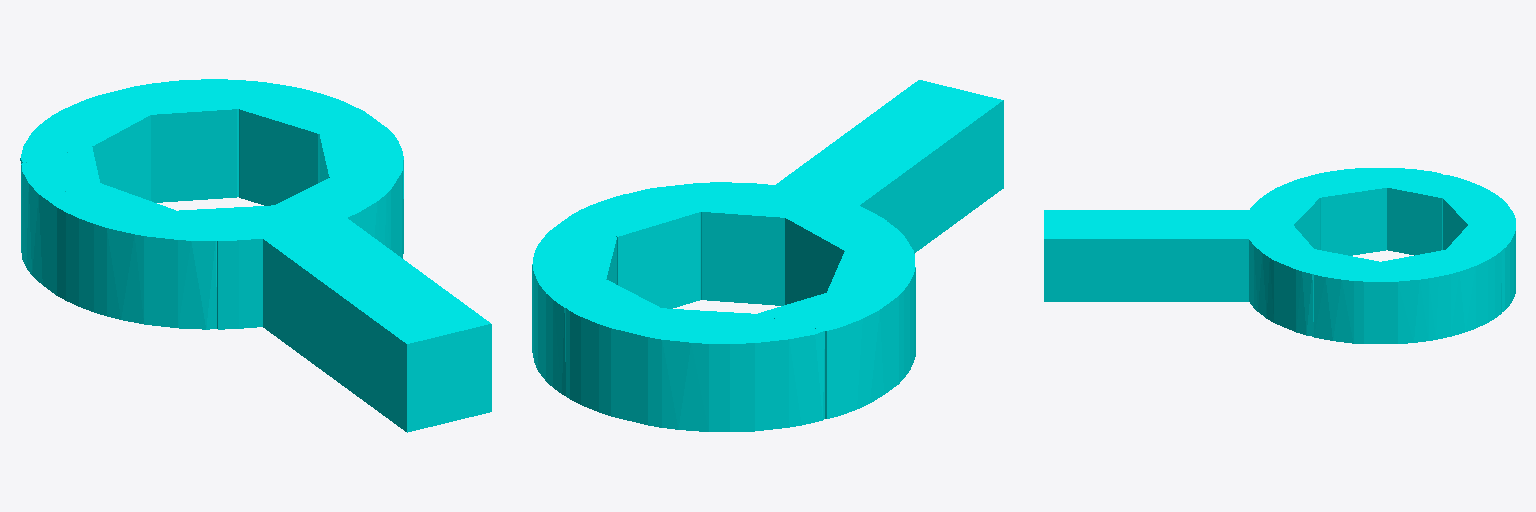
URDF robot description (pipe_hole_skeleton):
<?xml version="1.0"?>
<robot name="pipe_hole_skeleton">
    <link name="world" />
    <link name="pipe_hole_link" concave="yes">
        <inertial>
            <mass value="0.01" />
            <origin xyz="0.0 0 0" rpy="0 0 0" />
            <inertia ixx="1.0" ixy="0" ixz="0" iyy="1.0" iyz="0" izz="1.0" />
        </inertial>
        <visual>
            <origin xyz="0 0 0" rpy="0 0 0" />
            <geometry>
                <mesh filename="./pipe_hole_265_vhacd.obj"/>
            </geometry>
            <material name="Cyan">
                <color rgba="0 1.0 1.0 1.0"/>
            </material>
        </visual>
        <collision group="default">
            <origin xyz="0.0 0 0" rpy="0 -0 0" />
            <geometry>
                <mesh filename="./pipe_hole_265_vhacd.obj"/>
            </geometry>
        </collision>
    </link>
    <joint name="pipe_hole_joint" type="fixed">
        <origin xyz="0 0 0" rpy="0 0 0" />
        <parent link="world" />
        <child link="pipe_hole_link" />
    </joint>
</robot>

--- What the picture shows (computed from the rendered views, not written in the file) ---
Views: 3 orthographic renders of the robot side by side, from view 1: azimuth 30°, elevation 25°; view 2: azimuth 150°, elevation 25°; view 3: azimuth 270°, elevation 25°.
Robot: pipe_hole_skeleton — 2 links, 1 joints (1 fixed); root link world; default pose: every joint at zero.
Visible links, largest first — view 1: pipe_hole_link; view 2: pipe_hole_link; view 3: pipe_hole_link.
Boxes of the visible links, x1=… form: pipe_hole_link: x1=20, y1=79, x2=491, y2=432; pipe_hole_link: x1=532, y1=80, x2=1003, y2=431; pipe_hole_link: x1=1044, y1=168, x2=1515, y2=343.
Size in the robot's own frame: 0.0401 by 0.0702 by 0.0103 metres.
1 mesh visuals loaded from 1 distinct referenced files (1 OBJ).
